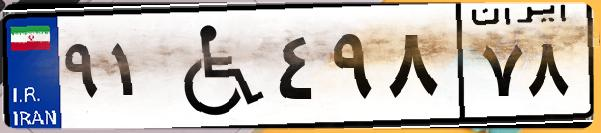1: (110, 28, 158, 98)
4: (270, 28, 330, 110)
7: (475, 38, 525, 113)
8: (385, 28, 445, 110), (525, 38, 570, 115)
9: (330, 28, 385, 110), (57, 26, 110, 100)
ژ (معلولین و جانبازان): (158, 12, 270, 120)
